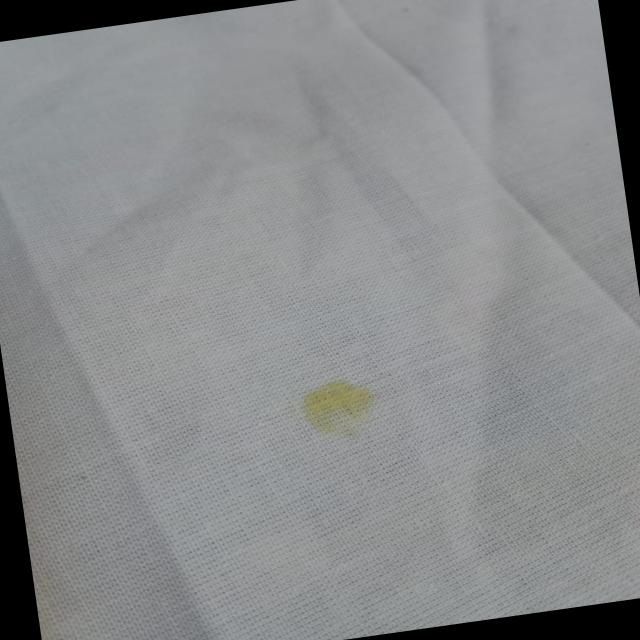stain: (284, 362, 392, 447)
